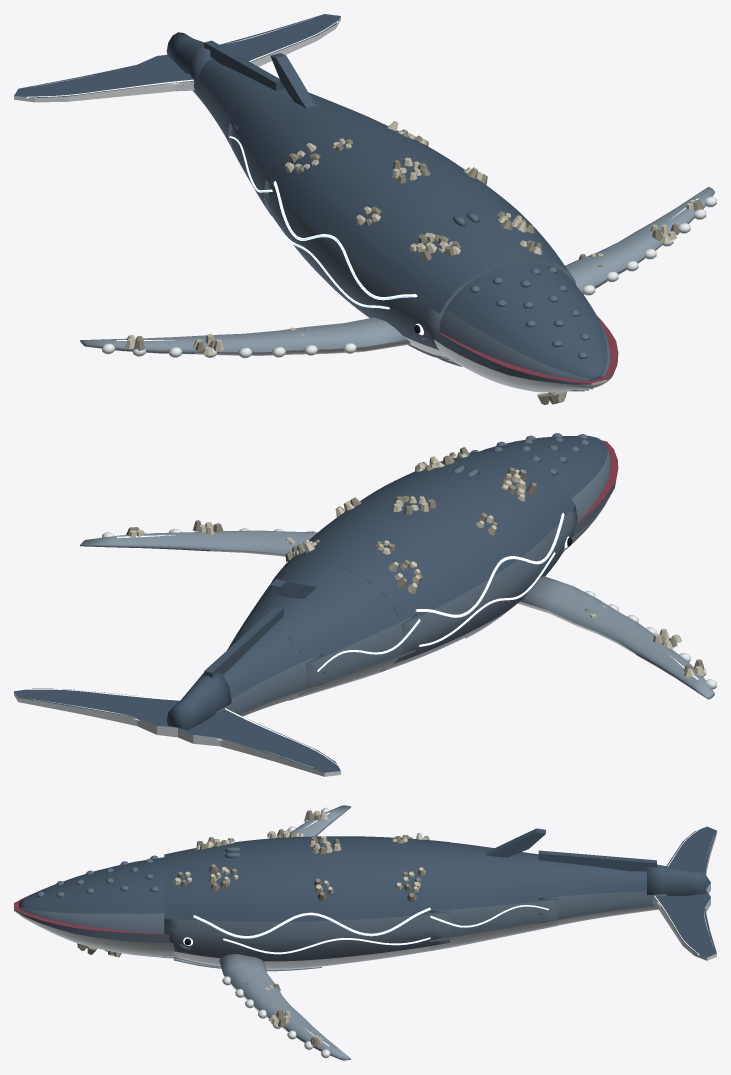
Rendered from kinhngu.glb.
3 renders of one model, top to bottom at view 1: azimuth 30°, elevation 25°; view 2: azimuth 150°, elevation 25°; view 3: azimuth 270°, elevation 25°, orthographic. The views are drawn at different scales.
Visible parts, largest first — view 1: BODY, HEAD, TAIL, FLUKE, FIN_FL, FIN_FR, JAW; view 2: BODY, TAIL, FLUKE, FIN_FL, HEAD, FIN_FR, JAW; view 3: BODY, TAIL, HEAD, FLUKE, FIN_FR, JAW, FIN_FL.
Part boxes in pixels (x1,y1,x2,y2): BODY: (263, 116, 576, 366); HEAD: (439, 263, 610, 380); TAIL: (188, 40, 387, 220); FLUKE: (14, 14, 340, 102); FIN_FL: (80, 317, 410, 358); FIN_FR: (565, 187, 716, 295); JAW: (433, 316, 618, 404); BODY: (271, 447, 577, 672); TAIL: (204, 552, 420, 716); FLUKE: (14, 672, 340, 776); FIN_FL: (518, 576, 716, 699); HEAD: (470, 433, 610, 522); FIN_FR: (80, 520, 317, 556); JAW: (566, 440, 618, 549); BODY: (164, 832, 449, 971); TAIL: (430, 828, 666, 951); HEAD: (19, 855, 164, 933); FLUKE: (647, 826, 716, 960); FIN_FR: (219, 954, 350, 1060); JAW: (14, 897, 177, 958); FIN_FL: (267, 805, 350, 838).
Size of the model in its own units: 121 by 29.41 by 143.
